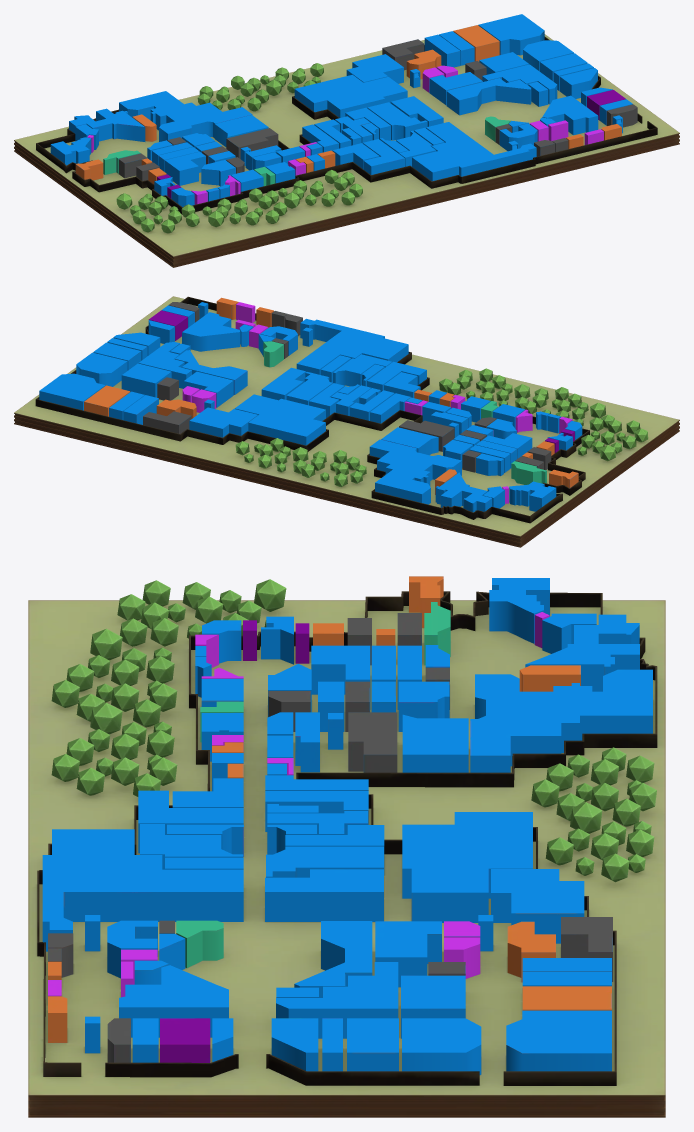
Rendered from GLB.glb.
3 renders of one model, top to bottom at view 1: azimuth 30°, elevation 25°; view 2: azimuth 150°, elevation 25°; view 3: azimuth 270°, elevation 25°, orthographic. The views are drawn at different scales.
Parts seen in each view (by area): view 1: polySurface1 units, land, trees, walls; view 2: polySurface1 units, land, trees, walls; view 3: polySurface1 units, land, trees, walls.
Part boxes in pixels (x1,y1,x2,y2): polySurface1 units: [50, 14, 637, 206]; land: [14, 34, 679, 267]; trees: [116, 63, 362, 233]; walls: [36, 36, 657, 214]; polySurface1 units: [39, 297, 582, 512]; land: [14, 296, 679, 547]; trees: [235, 368, 648, 486]; walls: [35, 296, 589, 523]; polySurface1 units: [42, 576, 652, 1074]; land: [28, 600, 665, 1117]; trees: [51, 579, 656, 882]; walls: [37, 591, 657, 1085].
Bounding box in the file's own units: 4791 × 250 × 2609.
4 materials, 4 textured.
